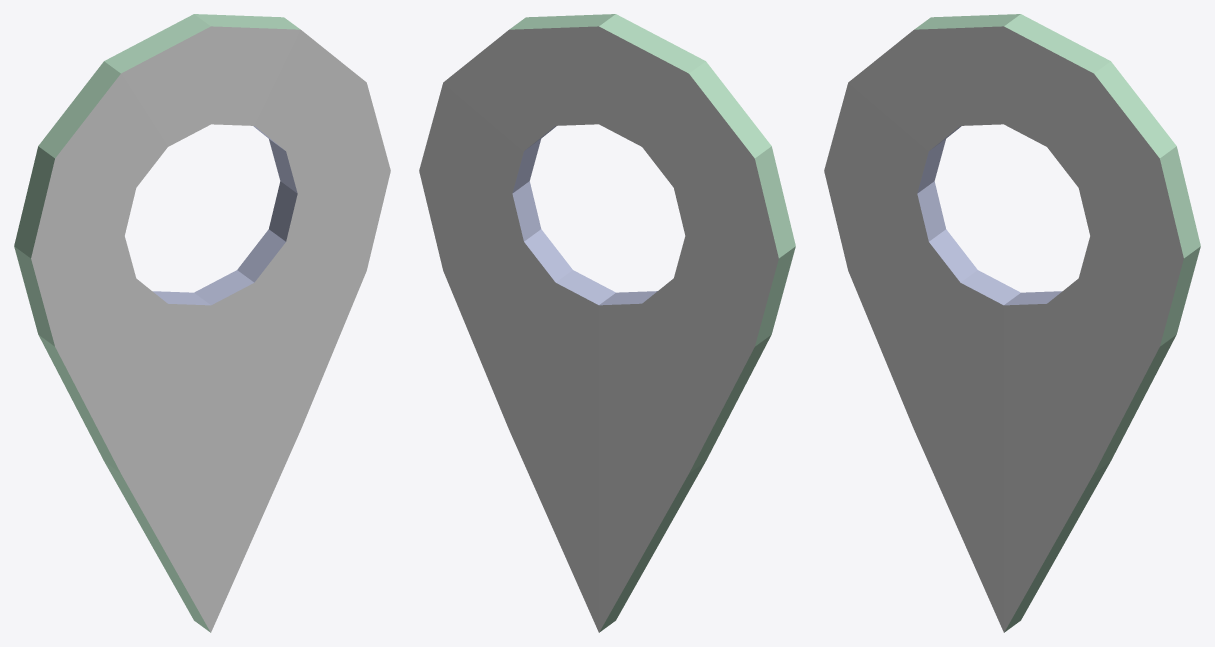
Rendered from pointer.glb.
3 views of the same model, side by side, from view 1: azimuth 30°, elevation 25°; view 2: azimuth 150°, elevation 25°; view 3: azimuth 330°, elevation 25° (orthographic).
Parts seen in each view (by area): view 1: pointer; view 2: pointer; view 3: pointer.
Boxes of the visible parts, box(x1,y1,x2,y2) form: pointer: box(14, 14, 390, 632); pointer: box(419, 14, 795, 632); pointer: box(824, 14, 1200, 632).
Size of the model in its own units: 0.2967 by 0.4779 by 0.0248.
